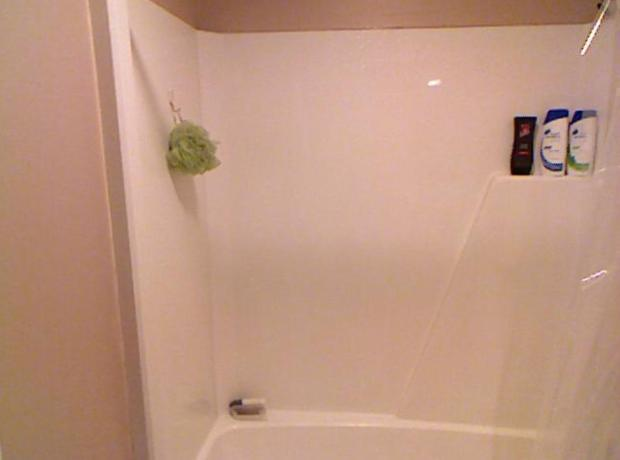Ducha: (514, 11, 617, 457)
